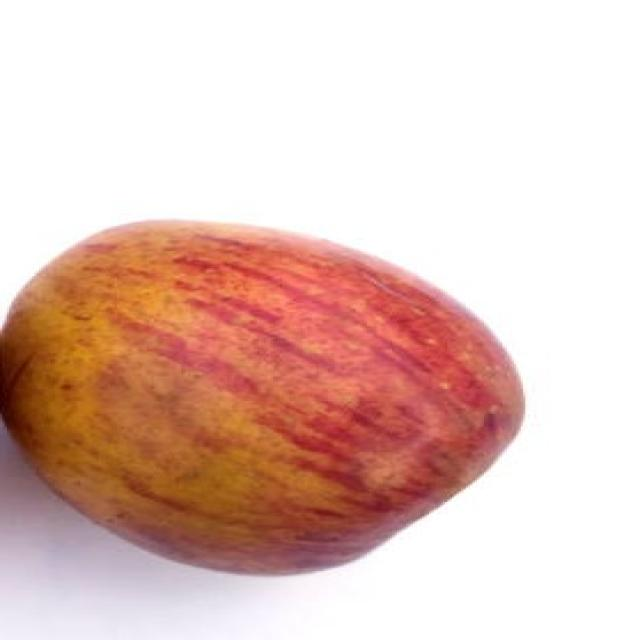overripe: (0, 213, 535, 580)
